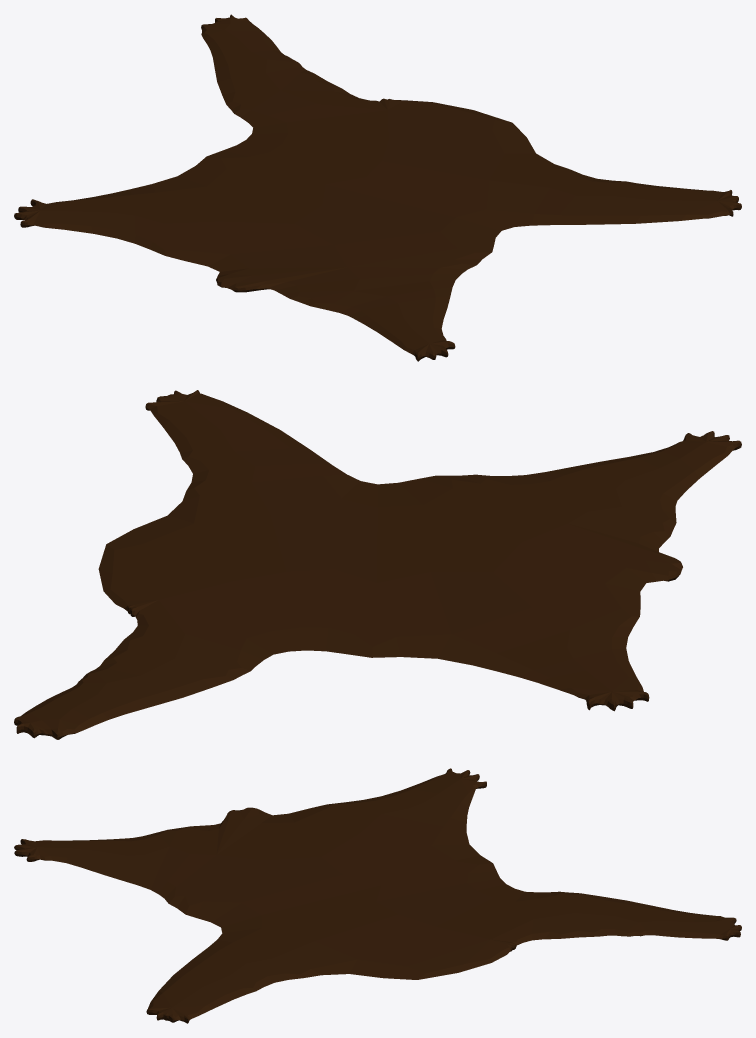
Rendered from Skin.fbx.
3 views of the same model, one above another, from view 1: azimuth 30°, elevation 25°; view 2: azimuth 150°, elevation 25°; view 3: azimuth 270°, elevation 25° (orthographic). The views are drawn at different scales.
Visible parts, largest first — view 1: Skin; view 2: Skin; view 3: Skin.
Part boxes in pixels (box(x1,y1,x2,y2)): Skin: box(14, 14, 741, 361); Skin: box(14, 390, 741, 739); Skin: box(14, 768, 741, 1023).
Bounding box in the file's own units: 2.32 × 2.85 × 0.0294.
